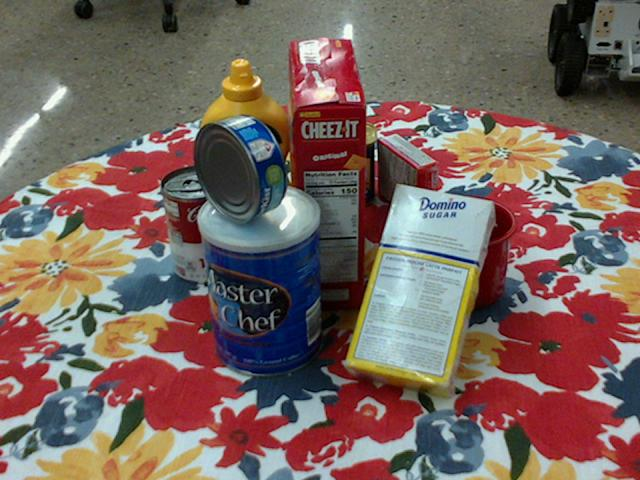cracker_box: (287, 39, 367, 310)
gelatin_box: (377, 132, 438, 224)
large_marker: (321, 76, 338, 126)
master_chef_can: (198, 185, 323, 380)
mug: (395, 195, 516, 309)
mustard_bottle: (199, 60, 295, 235)
potted_meat_can: (286, 122, 377, 208)
sugar_box: (344, 186, 494, 402)
tomato_soup_can: (160, 165, 237, 283)
tuna_fish_can: (192, 114, 288, 223)
